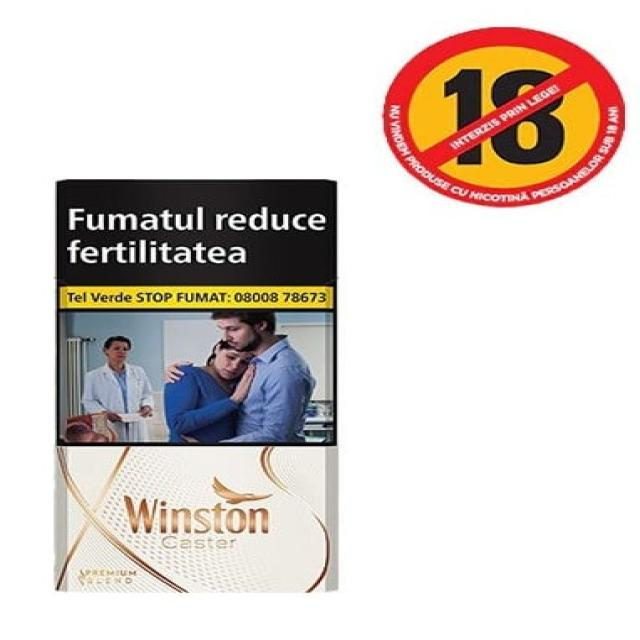winston: (43, 175, 348, 598)
